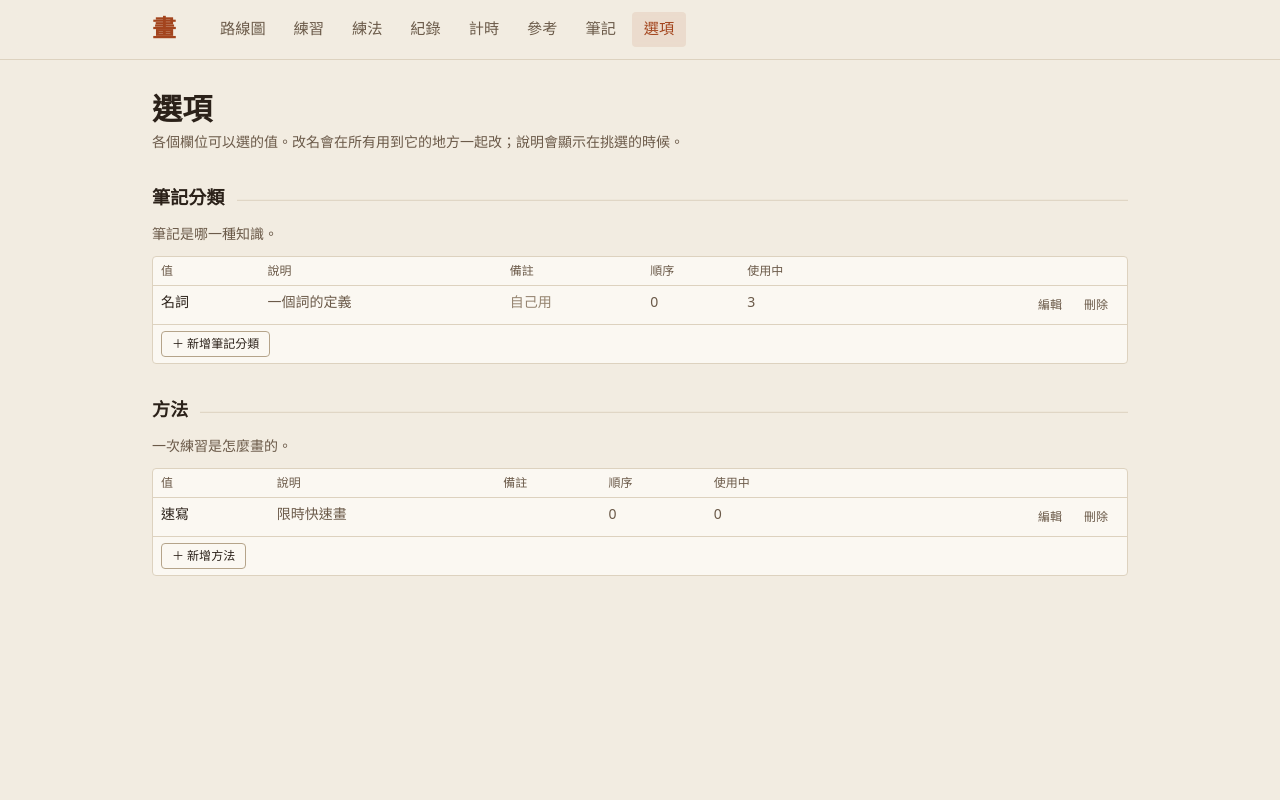
Scenario: the options page › states the count, sends it, and on a 409 shows the server and the new count
The image size is (1280, 800).
Click the button with aria-label "刪除「名詞」": (1096, 305) top-left (1073, 292), bottom-right (1119, 318)
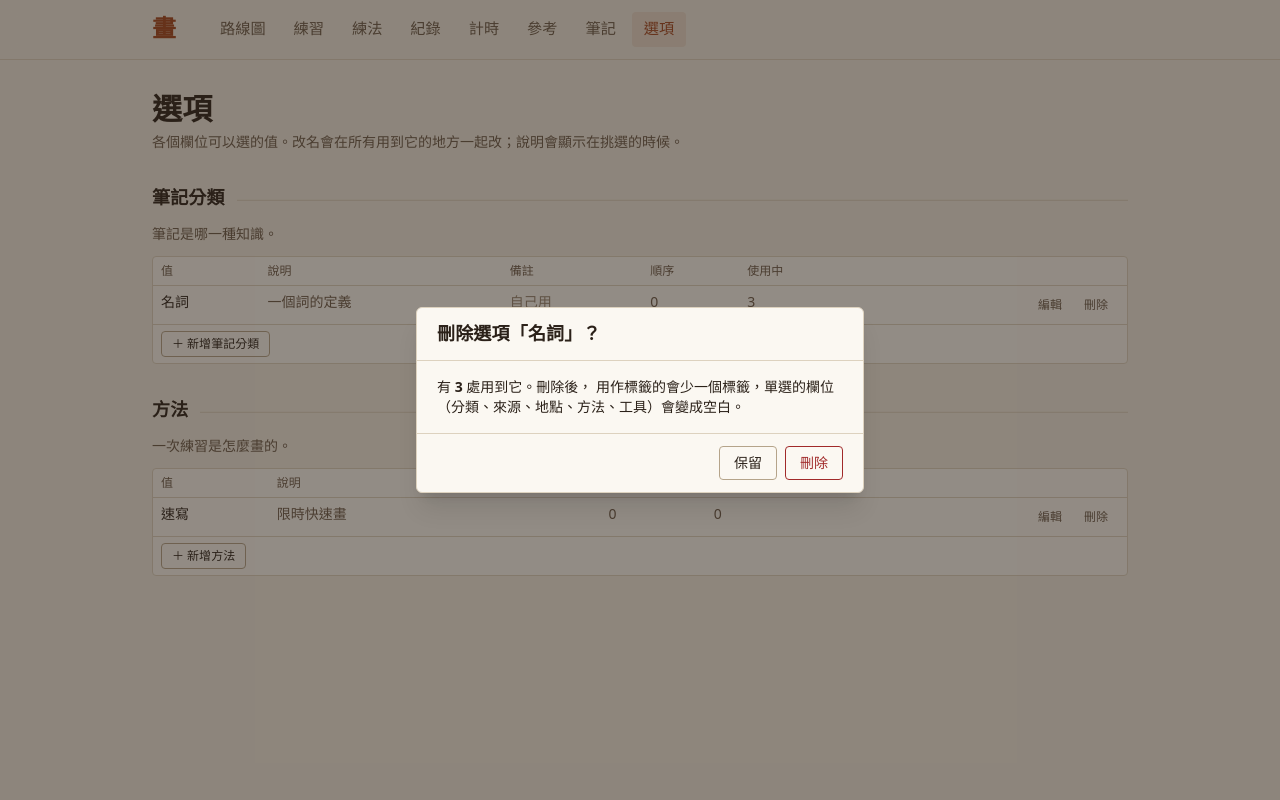
Now the dialog shows "3 處用到它", box top-left (416, 307), bottom-right (864, 493)
Click the button "刪除": (814, 463) top-left (785, 446), bottom-right (843, 480)
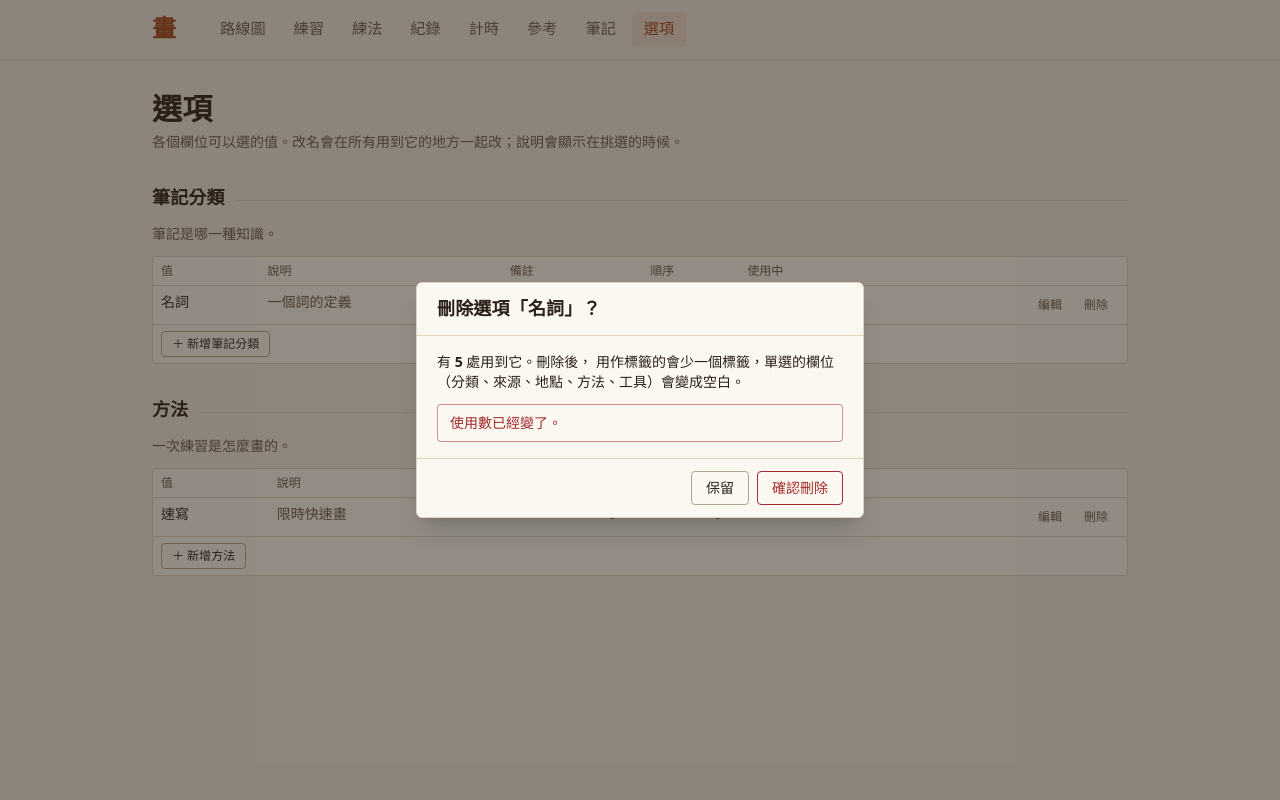
Now the text "使用數已經變了。" is shown, box top-left (437, 404), bottom-right (843, 442)
Now the dialog shows "5 處用到它", box top-left (416, 282), bottom-right (864, 518)
Click the button "確認刪除": (800, 488) top-left (757, 471), bottom-right (843, 505)
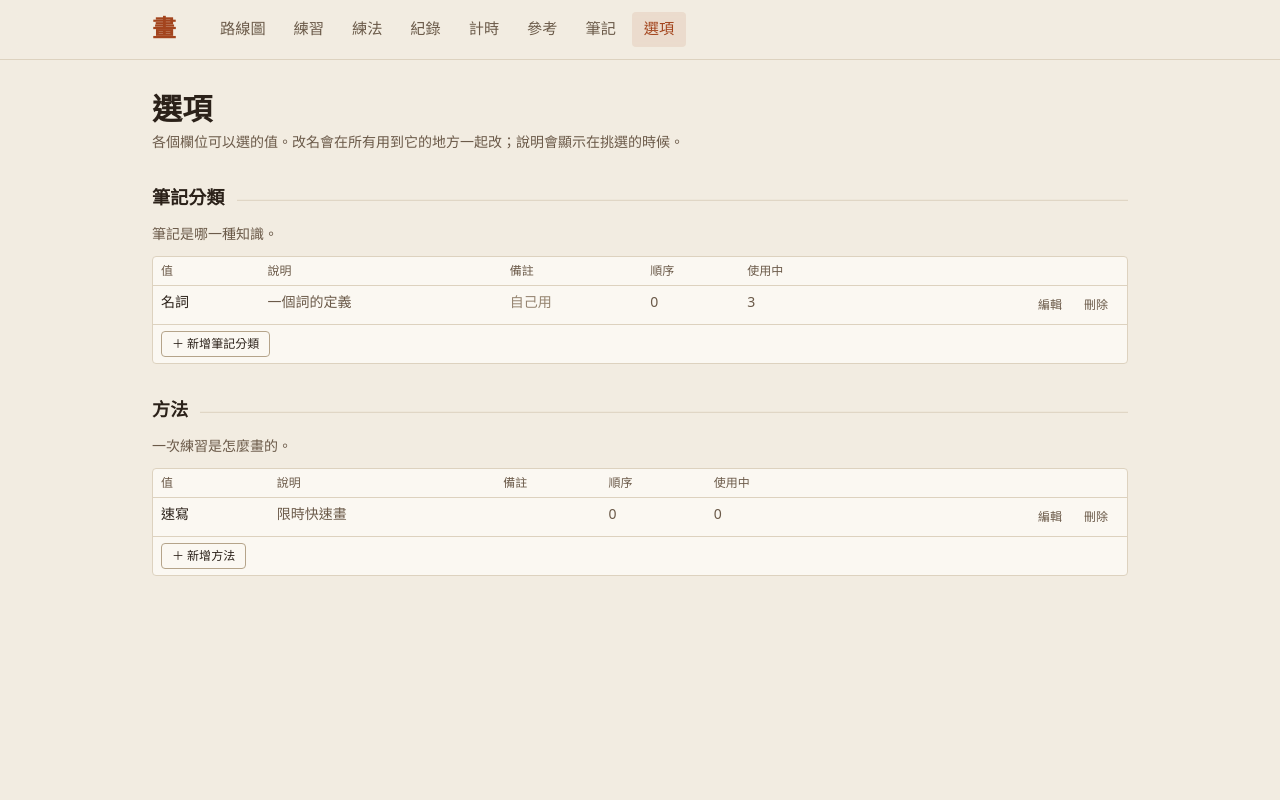
Now the dialog is gone
